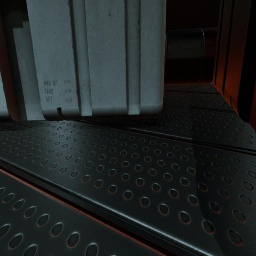NitrogenTank ,: (164, 27, 218, 85)
